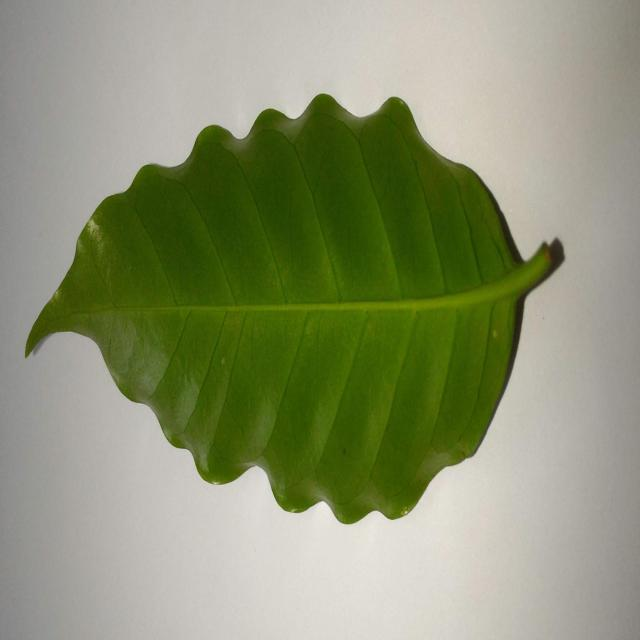nodisease: (25, 95, 564, 523)
